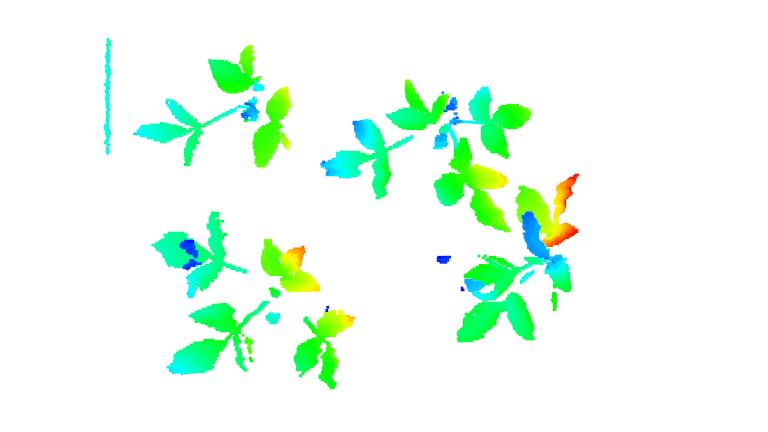mungbean: (152, 211, 359, 394), (315, 76, 531, 229), (451, 170, 588, 348), (135, 46, 295, 167)
